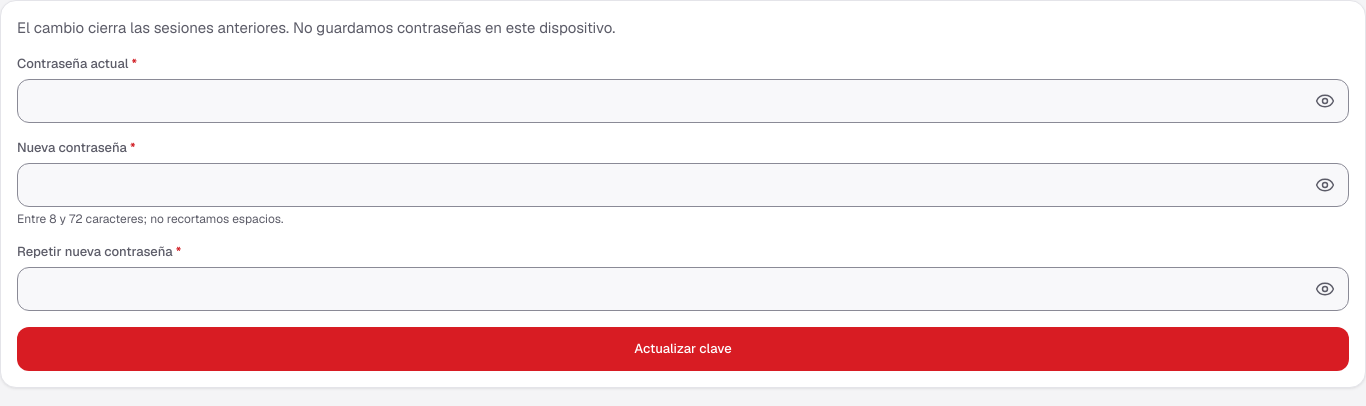
Cambio de clave visible › confirma cierre de sesión sólo tras éxito y ofrece login manual
This screenshot has width=1366, height=406.
Type "Current fixture 1" into the password field labelled "Contraseña actual *". click: (683, 101)
box: [17,79,1349,123]
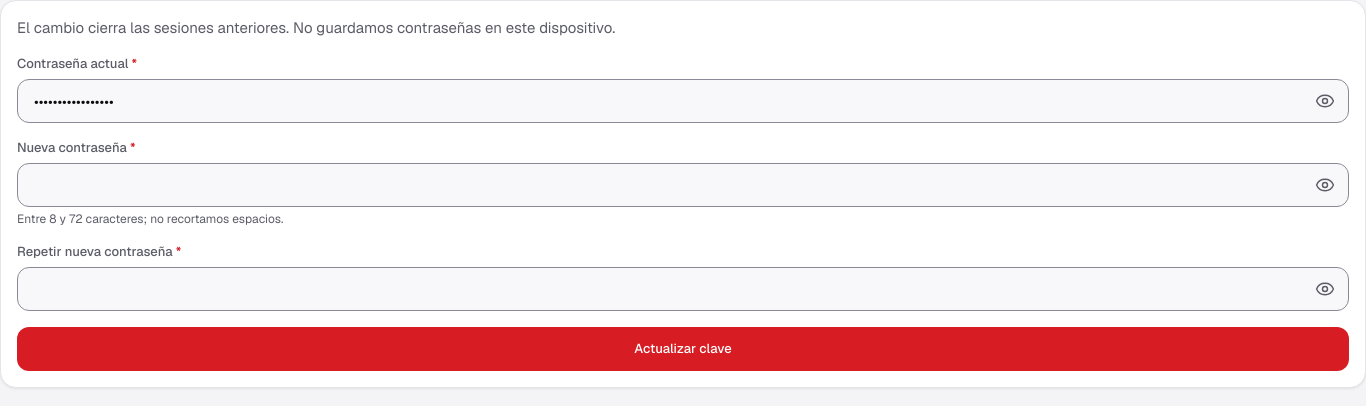
Type "Replacement fixture 2" into the password field labelled "Nueva contraseña *". click: (683, 185)
box: [17,163,1349,207]
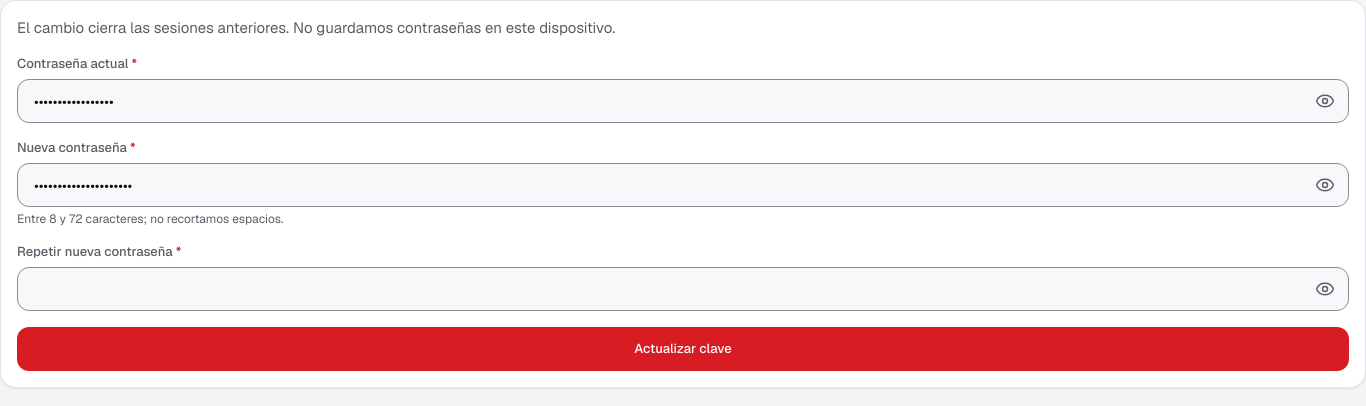
Type "Replacement fixture 2" into the password field labelled "Repetir nueva contraseña *". click: (683, 289)
box: [17,267,1349,311]
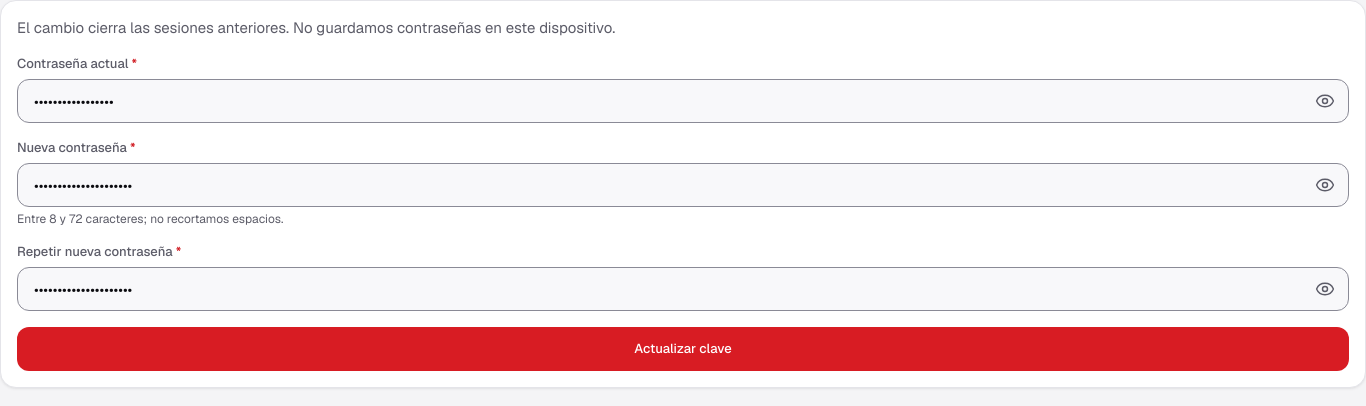
Click the button "Actualizar clave". click: (683, 349)
box: [17,327,1349,371]
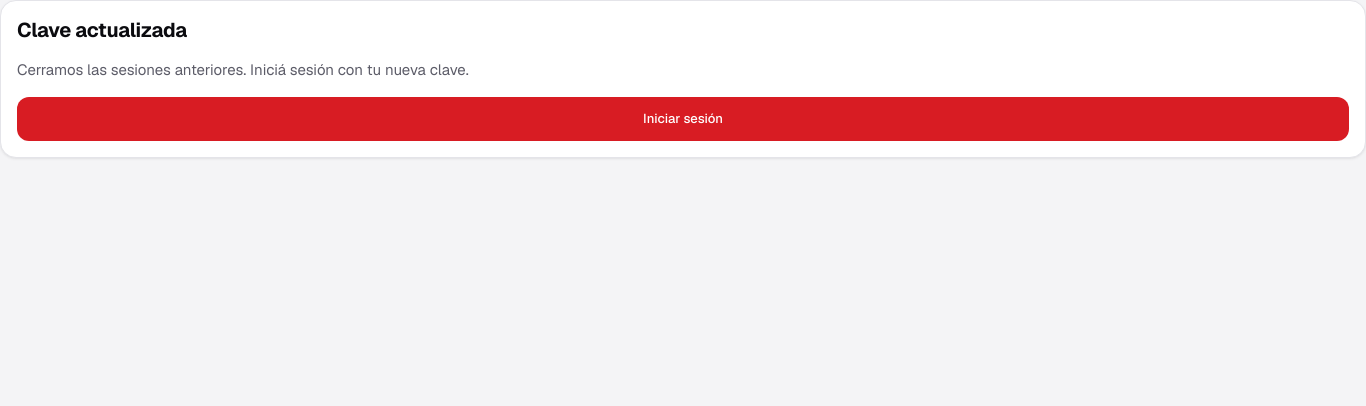
Check: the message shows "Cerramos las sesiones", box [17,60,469,79]
Check: the label labelled "Contraseña actual" is gone
